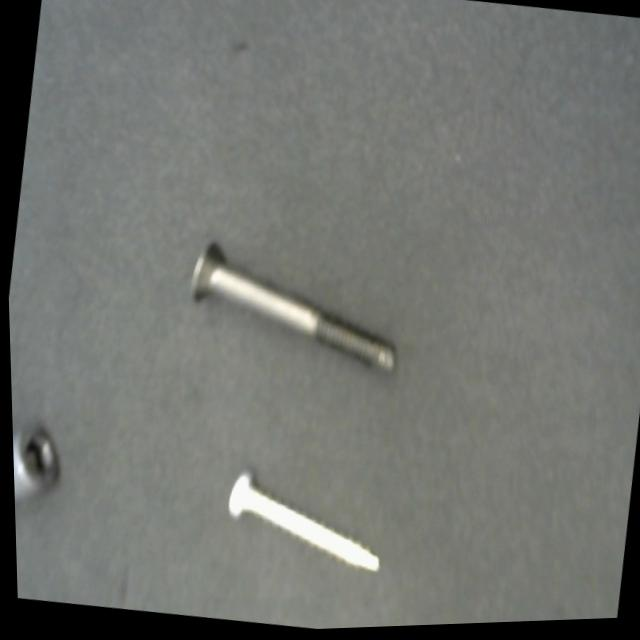FlatHeadSocketScrew: (164, 224, 412, 396)
SheetMetalScrew: (208, 453, 397, 596)
SocketHeadCapScrew: (9, 396, 78, 527)
